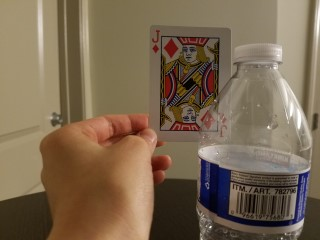JackOfDiamonds: (148, 24, 233, 148)
